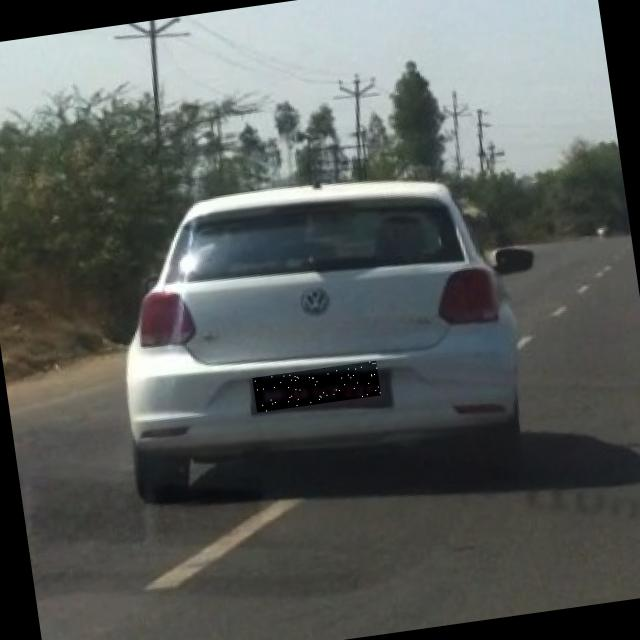Plate: (253, 362, 382, 414)
